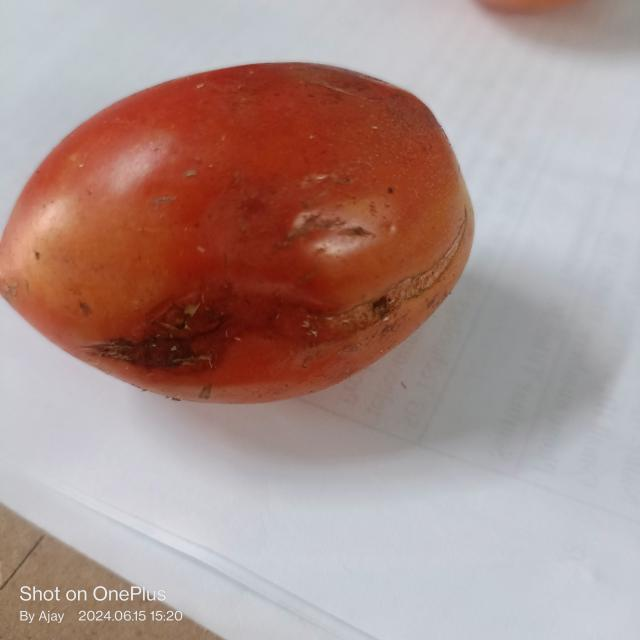tomato_cracking: (92, 207, 469, 359)
